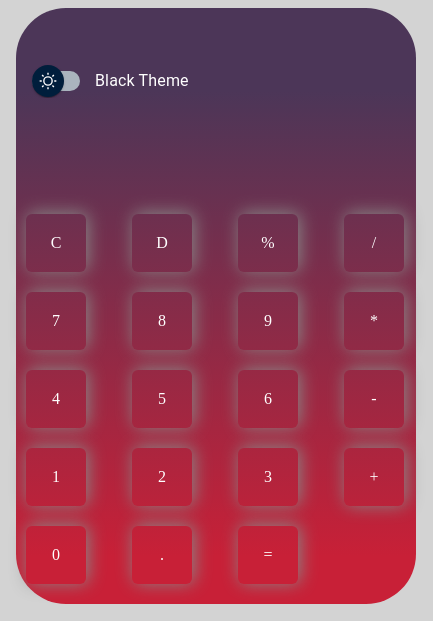
calculator › should be able to perform calculation
The width and height of the screenshot is (433, 621).
Click the text "2".
click(162, 477)  # box [132,448,192,506]
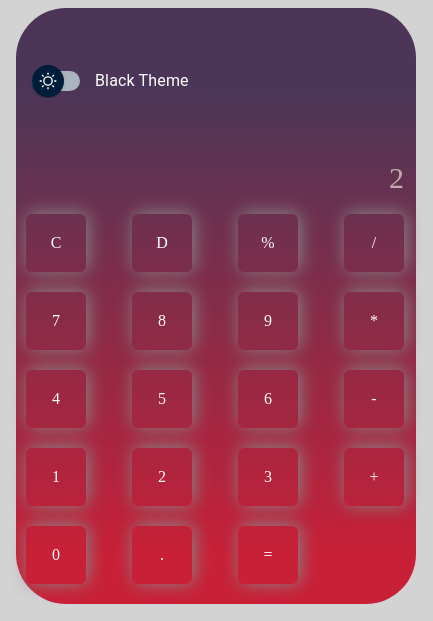
Click the text "5".
click(162, 399)  # box [132,370,192,428]
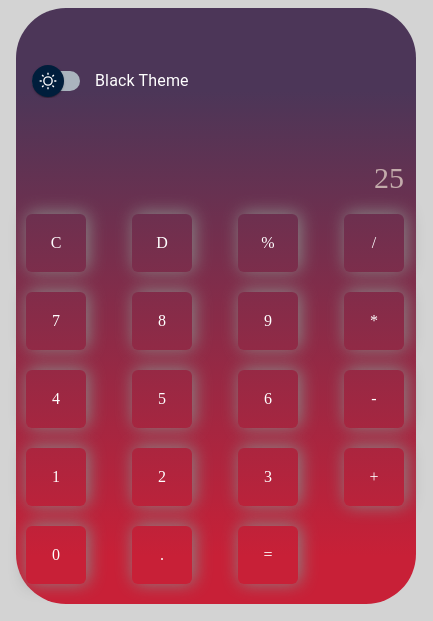
Click the text "+".
click(374, 477)  # box [344,448,404,506]
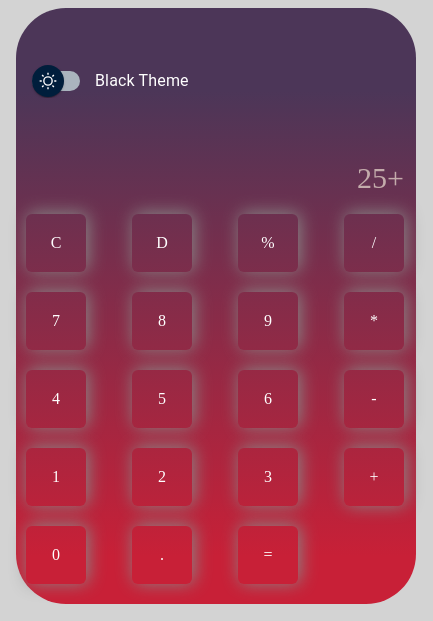
Click the text "5".
click(162, 399)  # box [132,370,192,428]
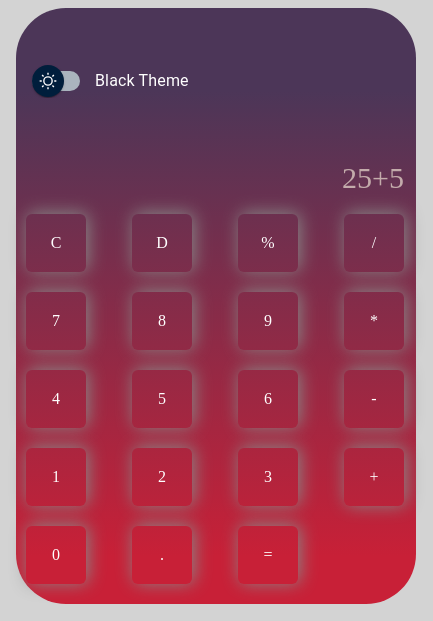
Click the text "=".
click(268, 555)  # box [238,526,298,584]
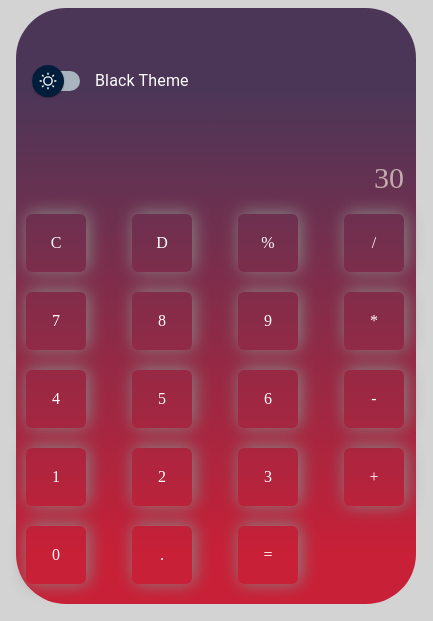
Now the text "30" is shown, box [374,161,404,194]
